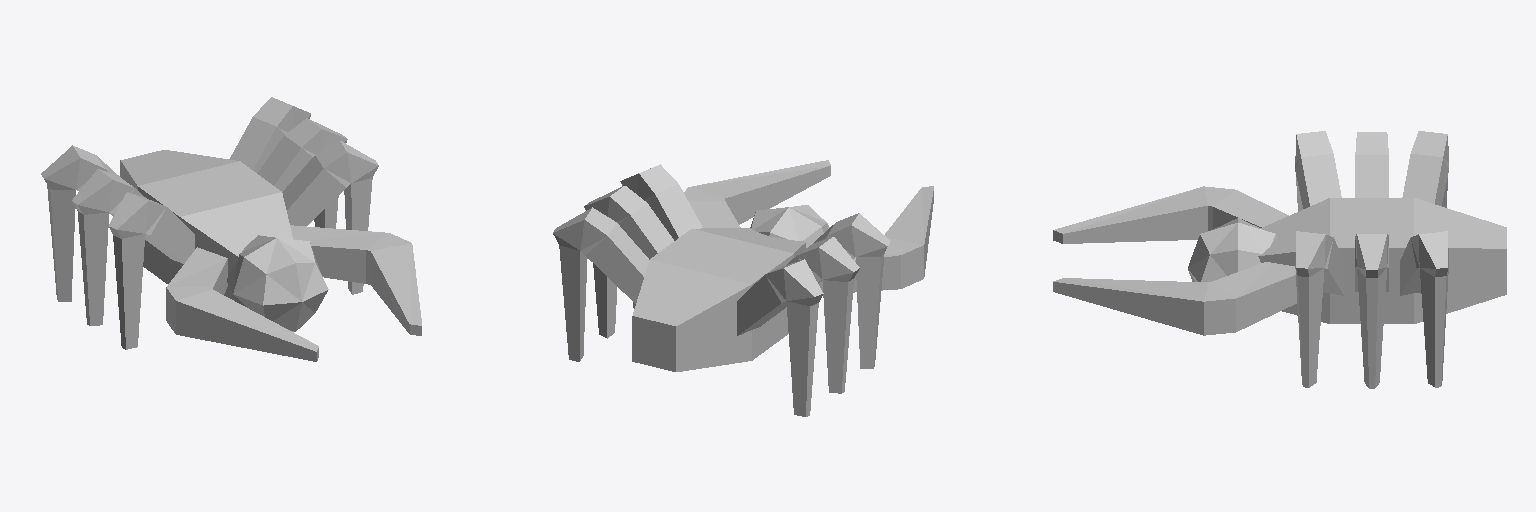
The model's file is eyewig.obj.
The picture shows the model from 3 angles: view 1: azimuth 30°, elevation 25°; view 2: azimuth 150°, elevation 25°; view 3: azimuth 270°, elevation 25°; orthographic projection.
Parts seen in each view (by area): view 1: Body, RightMouth, LeftMouth, Head, FrontRightLeg, FrontLeftLeg, MiddleRightLeg, BackRightLeg, MiddleLeftLeg, BackLeftLeg; view 2: Body, BackLeftLeg, BackRightLeg, LeftMouth, MiddleRightLeg, FrontRightLeg, MiddleLeftLeg, RightMouth, FrontLeftLeg, Head; view 3: Body, LeftMouth, RightMouth, BackLeftLeg, FrontLeftLeg, MiddleLeftLeg, Head, FrontRightLeg, BackRightLeg, MiddleRightLeg.
Boxes of the visible parts, x1=… form: Body: x1=120, y1=150, x2=292, y2=301; RightMouth: x1=166, y1=247, x2=318, y2=361; LeftMouth: x1=290, y1=225, x2=421, y2=335; Head: x1=227, y1=235, x2=328, y2=331; FrontRightLeg: x1=109, y1=192, x2=194, y2=349; FrontLeftLeg: x1=282, y1=140, x2=378, y2=294; MiddleRightLeg: x1=72, y1=169, x2=145, y2=325; BackRightLeg: x1=41, y1=145, x2=119, y2=301; MiddleLeftLeg: x1=257, y1=118, x2=347, y2=228; BackLeftLeg: x1=229, y1=97, x2=310, y2=172; Body: x1=632, y1=228, x2=805, y2=371; BackLeftLeg: x1=553, y1=207, x2=648, y2=361; BackRightLeg: x1=737, y1=259, x2=823, y2=416; LeftMouth: x1=684, y1=160, x2=830, y2=227; MiddleRightLeg: x1=787, y1=236, x2=859, y2=393; FrontRightLeg: x1=814, y1=213, x2=890, y2=368; MiddleLeftLeg: x1=584, y1=186, x2=673, y2=338; RightMouth: x1=819, y1=186, x2=933, y2=292; FrontLeftLeg: x1=620, y1=164, x2=702, y2=308; Head: x1=750, y1=205, x2=829, y2=247; Body: x1=1258, y1=198, x2=1506, y2=323; LeftMouth: x1=1053, y1=262, x2=1296, y2=335; RightMouth: x1=1053, y1=186, x2=1288, y2=243; BackLeftLeg: x1=1400, y1=231, x2=1448, y2=387; FrontLeftLeg: x1=1295, y1=231, x2=1343, y2=387; MiddleLeftLeg: x1=1355, y1=234, x2=1388, y2=388; Head: x1=1188, y1=218, x2=1276, y2=281; FrontRightLeg: x1=1295, y1=131, x2=1341, y2=211; BackRightLeg: x1=1402, y1=131, x2=1448, y2=207; MiddleRightLeg: x1=1355, y1=132, x2=1388, y2=197.
Size of the model in its own units: 2.33 by 1.21 by 3.39.